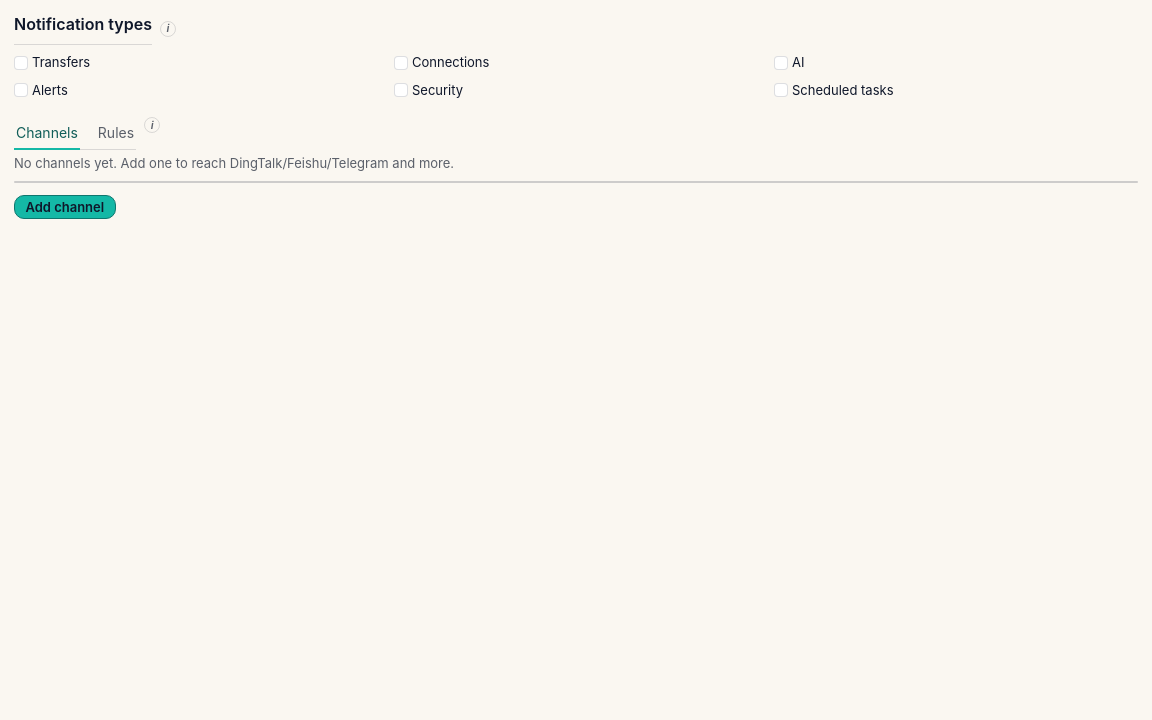
it: AlertSettings 规则区 › 主机必选：不选保存报错
The image size is (1152, 720).
What coordinates should you click on to do the following:
click the button "Rules"
I would click on:
 (116, 134)
Its box is [96,120,136,149].
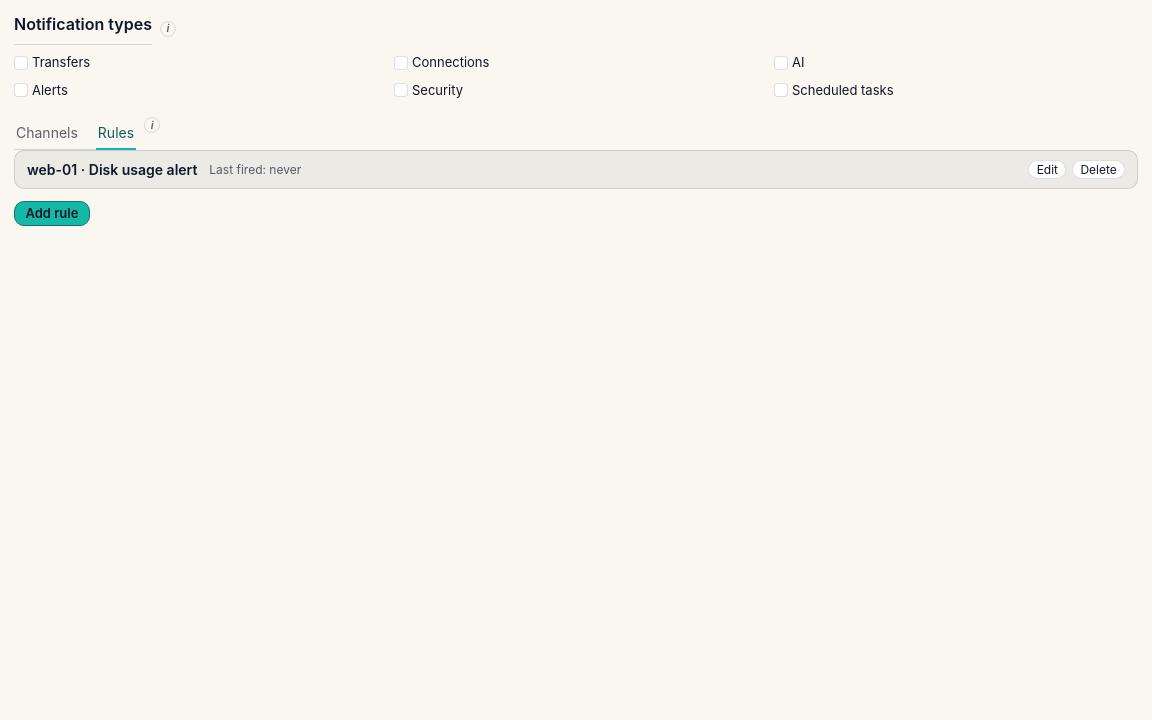
What coordinates should you click on to do the following:
click the button with test id "alert-add-rule"
I would click on:
 (52, 213)
Its box is [14,201,90,226].
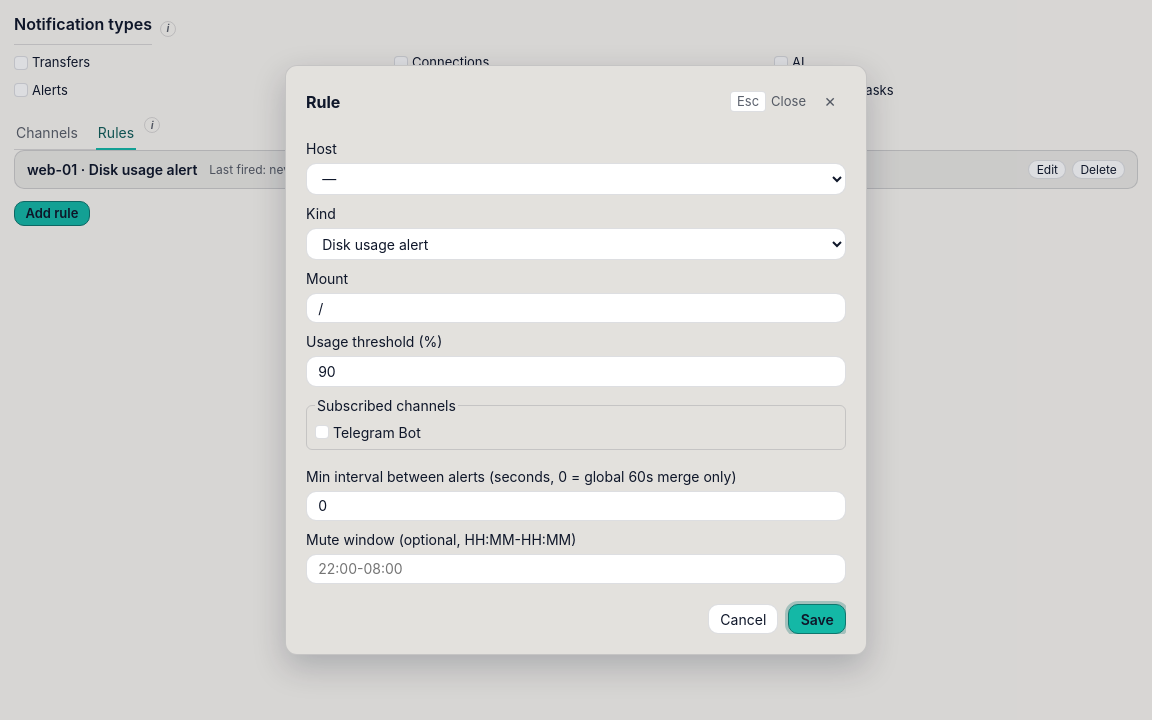
What coordinates should you click on to do the following:
click the button with test id "alert-rule-save"
I would click on:
 (817, 619)
Its box is [788,604,846,634].
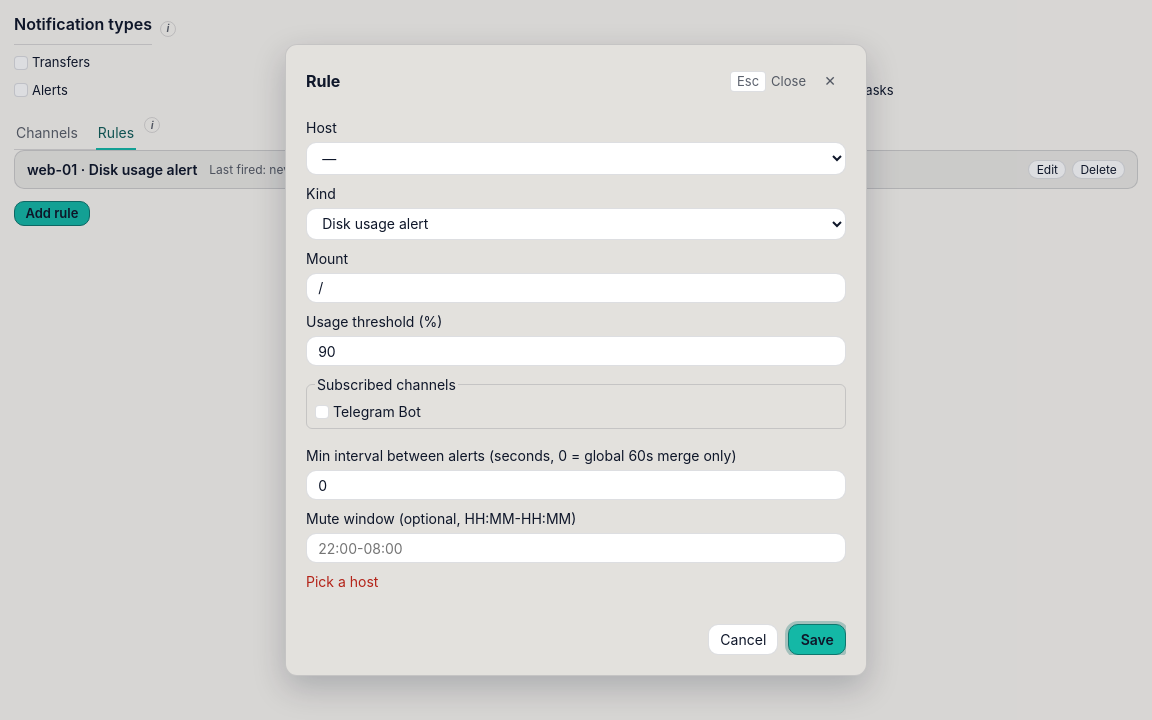
Result: the text "Pick a host" is shown at [306,574,378,590]
